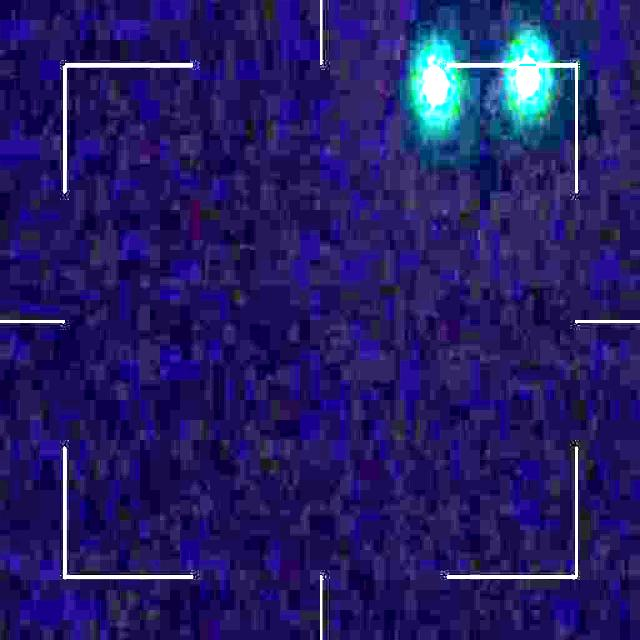bird: (420, 48, 541, 116)
